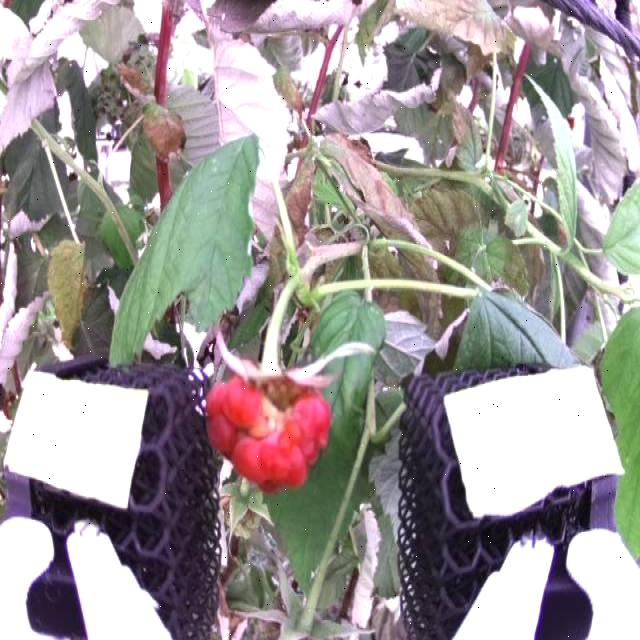Riped berries: (203, 365, 334, 495)
